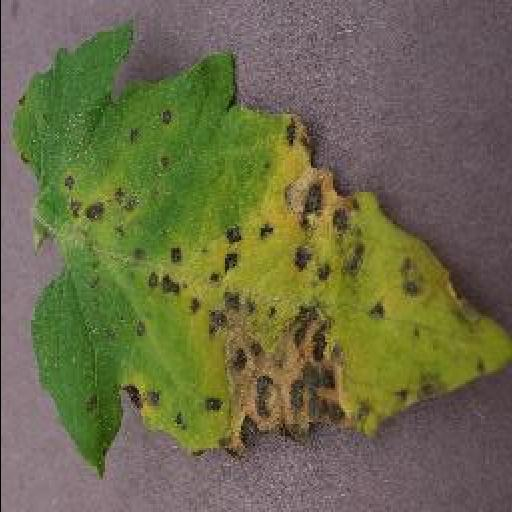disease_tomato: (12, 27, 512, 476)
